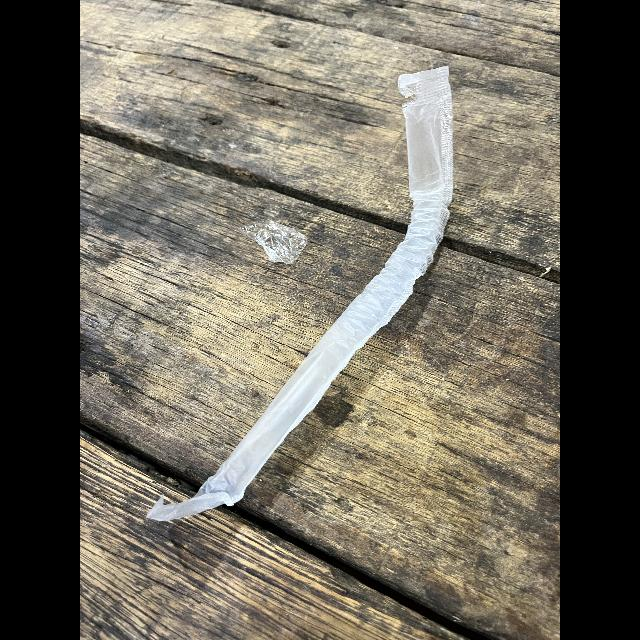scrap_plastic: (148, 58, 454, 530)
